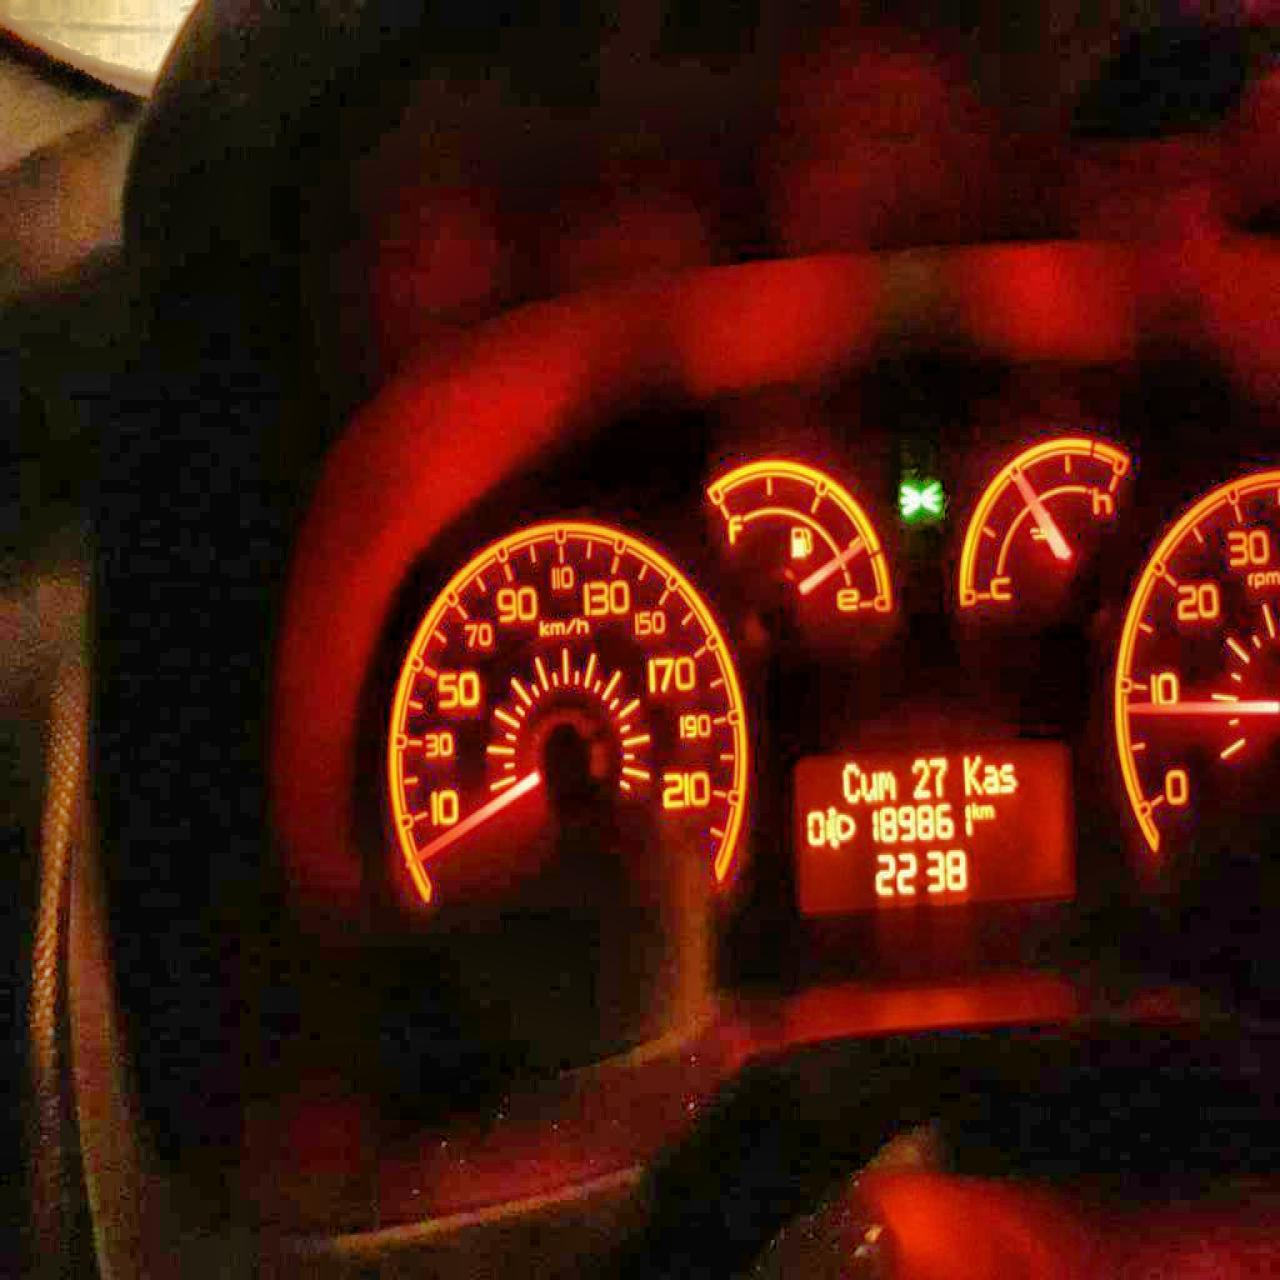0: (806, 810, 824, 846)
1: (962, 802, 972, 836), (871, 809, 879, 842)
2: (874, 852, 896, 896), (896, 850, 915, 893), (910, 757, 930, 798)
3: (924, 849, 944, 892)
6: (934, 802, 954, 838)
7: (928, 755, 946, 795)
8: (945, 846, 966, 890), (878, 805, 898, 842), (917, 802, 934, 840)
9: (896, 803, 915, 842)
X: (962, 754, 982, 795), (842, 760, 859, 803), (876, 768, 896, 799), (981, 762, 999, 794), (999, 762, 1016, 791), (860, 770, 876, 802), (980, 802, 994, 818), (971, 801, 980, 817)
odometer: (792, 742, 1078, 915)
